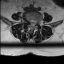CCS_stenosis: (32, 21, 33, 29)
LFS_stenosis: (35, 20, 37, 26)
LLS_normal: (33, 21, 35, 28)
RFS_severe_stenosis: (28, 20, 30, 26)
RLS_normal: (30, 21, 32, 27)
